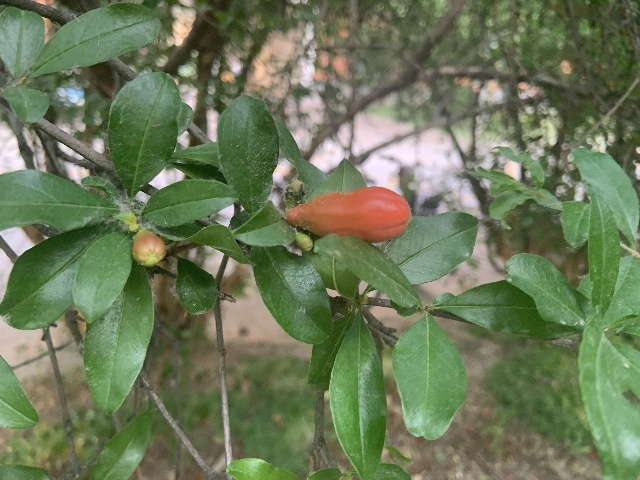bud: (287, 185, 410, 244), (132, 229, 166, 266)
